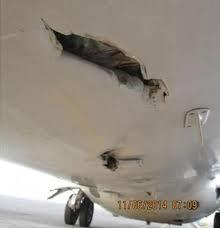Fuselage_damage: (37, 14, 186, 117)
